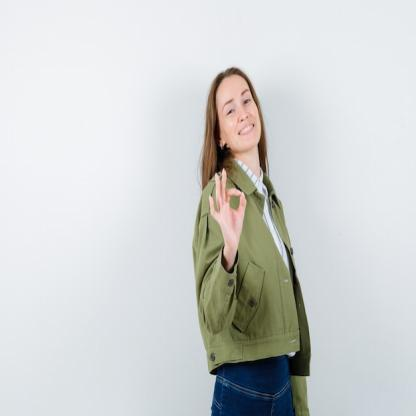ok: (207, 165, 248, 262)
